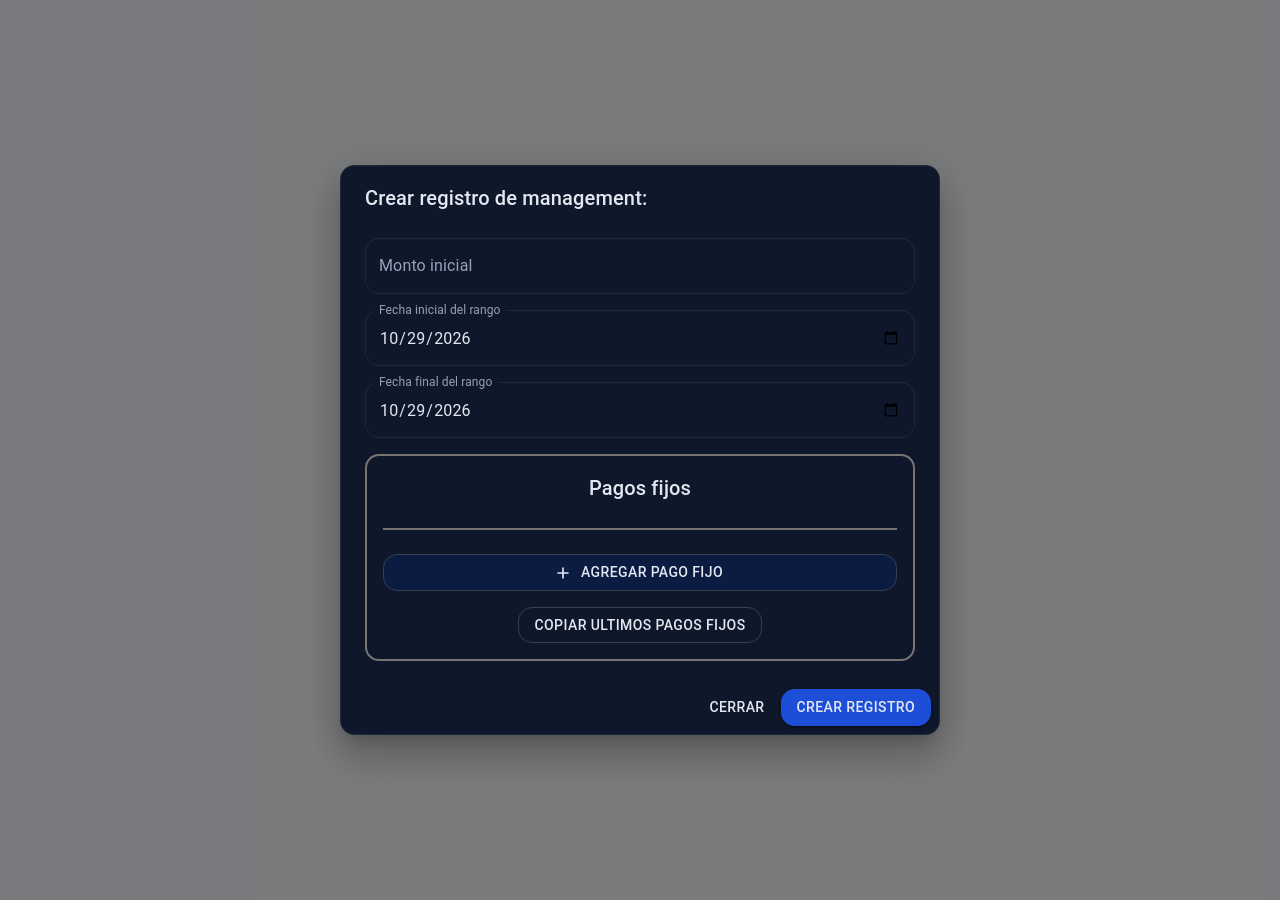
CreateManagementModal › muestra error de validación si el monto inicial no es válido
Click the button "Crear registro" at {"x": 856, "y": 708}, box top-left (780, 689), bottom-right (931, 726)
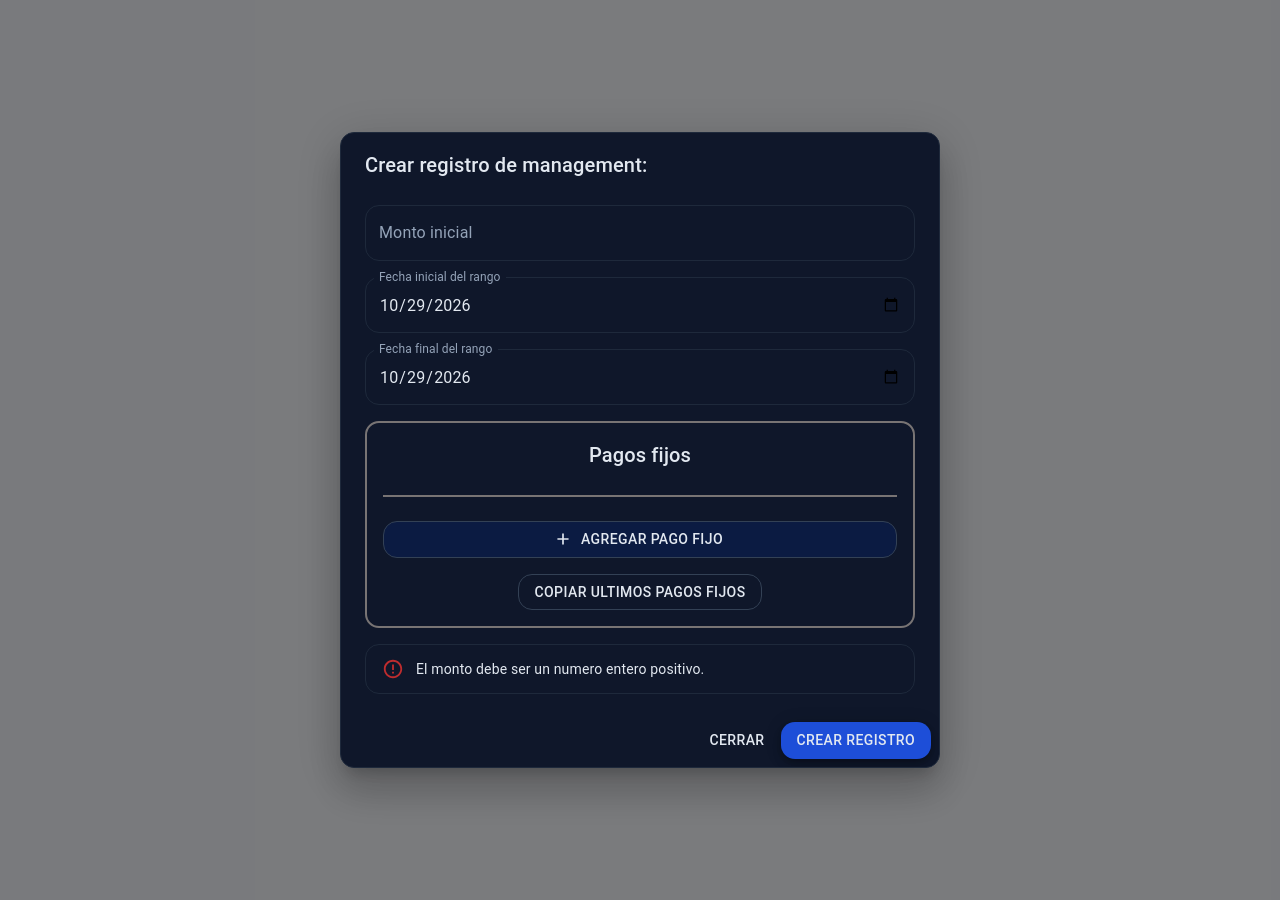
Expected: the text "El monto debe ser un numero entero positivo." is shown, top-left (416, 661), bottom-right (704, 677)
